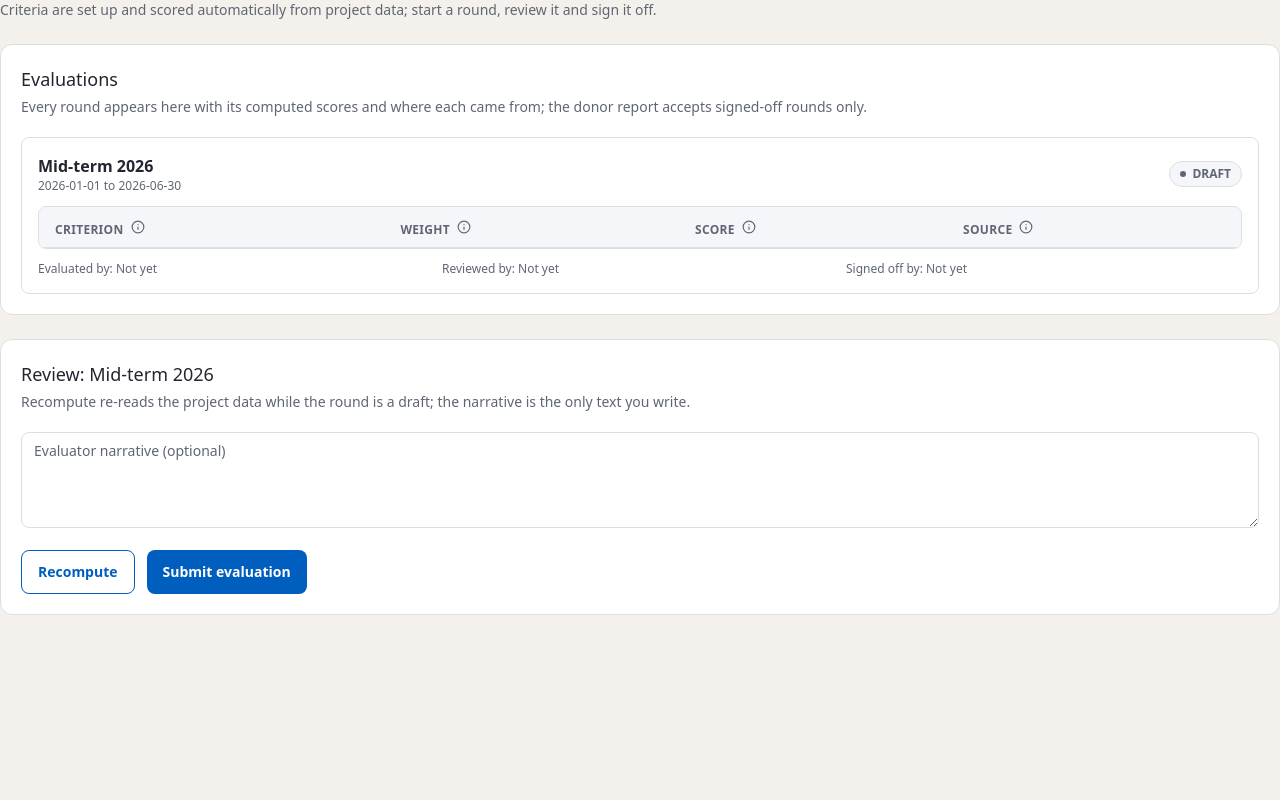
Test case: evaluation workspace round gates, dialogs and start form › closes the submit dialog on cancel without a request
This screenshot has width=1280, height=800.
Click the button "Submit evaluation" at (227, 572), box [146,550,307,594]
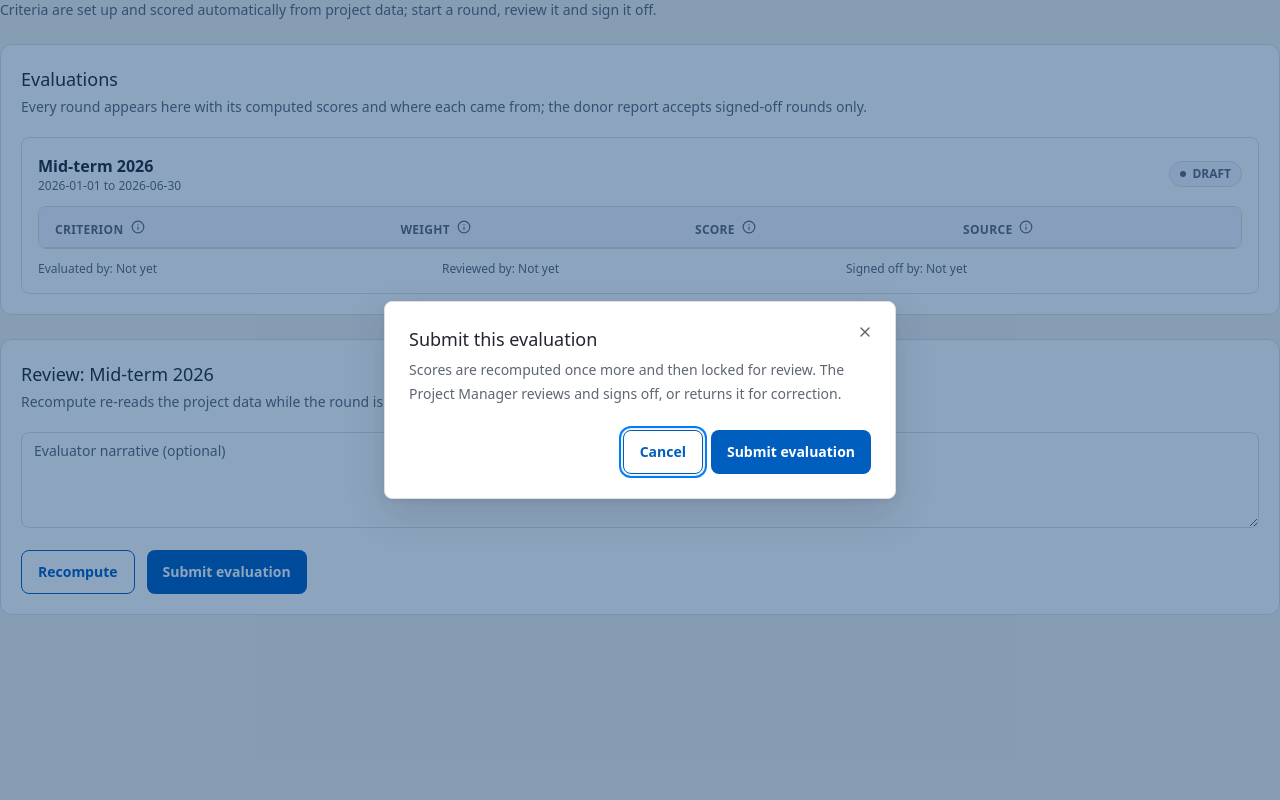
Click the button "Cancel" at (663, 452), box [623,430,703,474]
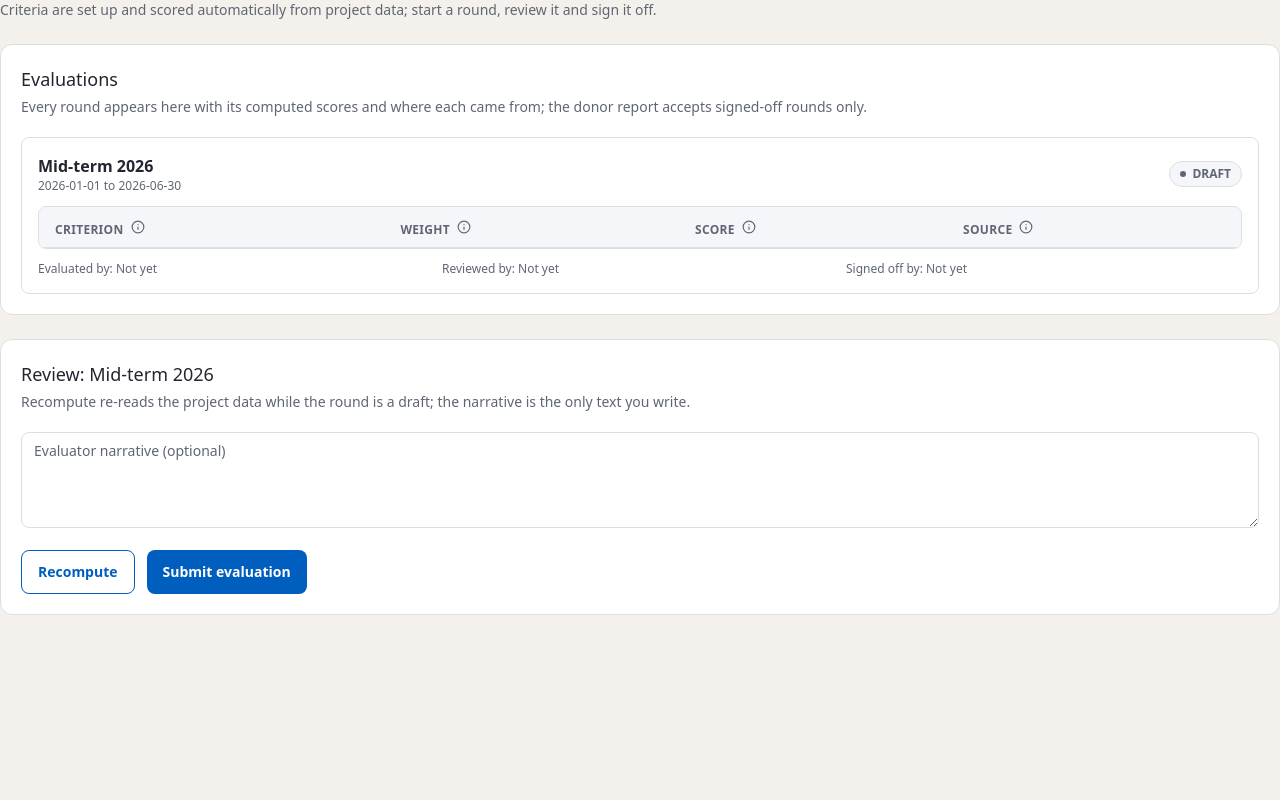
expect the dialog is gone: met
